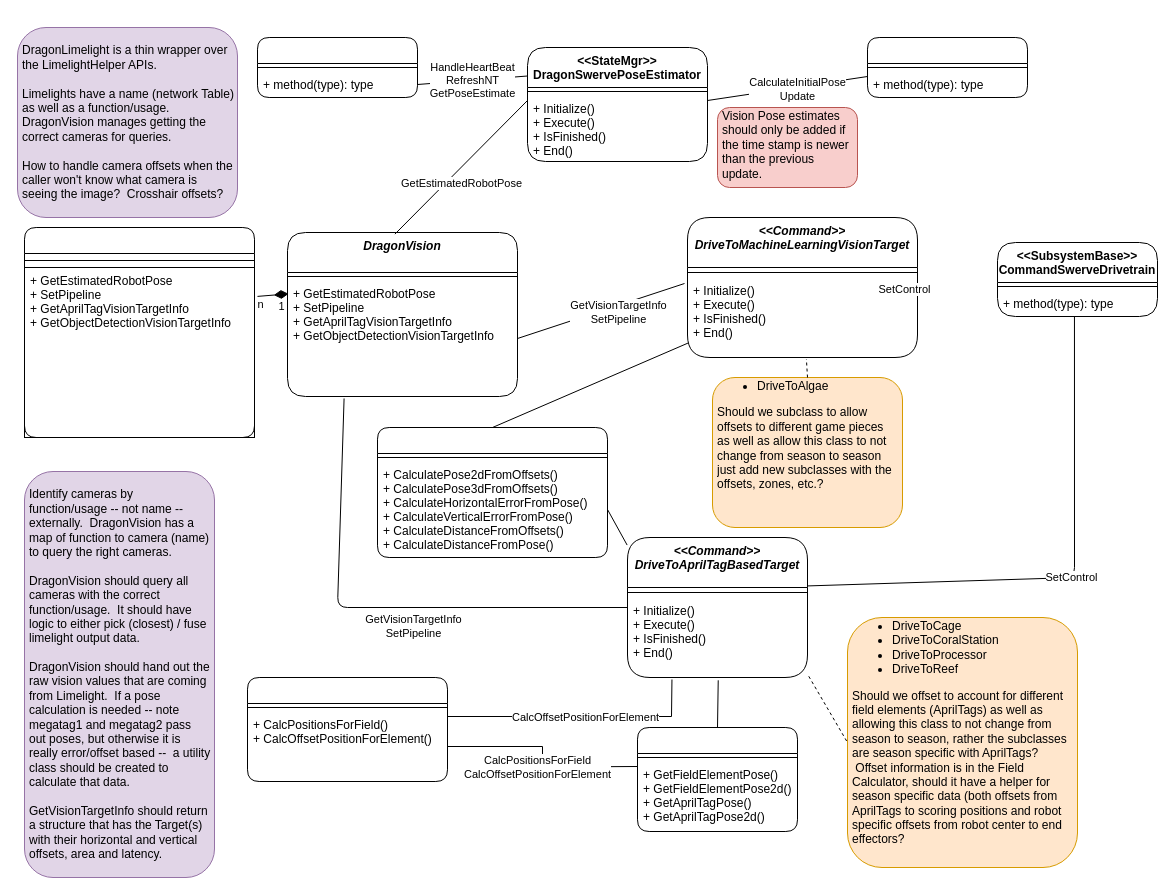
Image size: 1175x895. Some labels were removed from this diagram. Each missing label, with the box of its shape:
DragonLimelight: (24, 226, 254, 438)
DragonQuest: (256, 36, 418, 98)
FieldConstants: (636, 726, 798, 832)
FieldElementCalculator: (246, 676, 448, 782)
PoseOffsetUtils: (376, 426, 608, 558)
Robot: (866, 36, 1028, 98)
